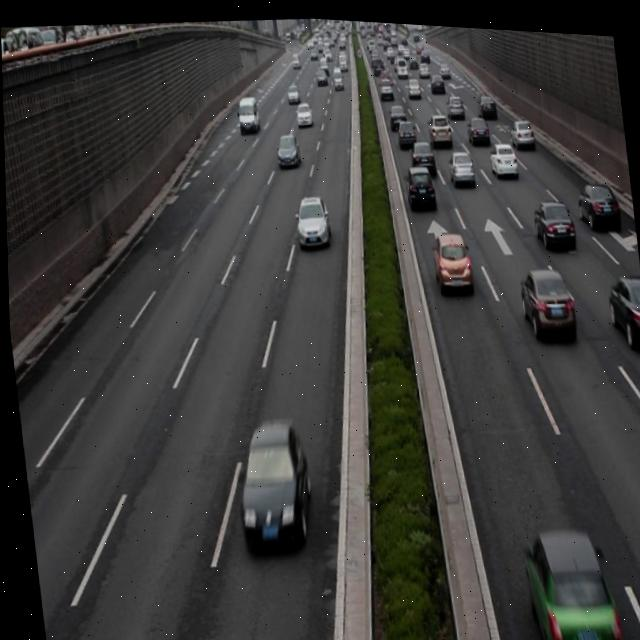car: (517, 515, 617, 640), (227, 415, 312, 552), (515, 260, 574, 340), (427, 224, 471, 289), (574, 172, 621, 230), (603, 266, 640, 338), (529, 191, 573, 245), (291, 190, 329, 245), (402, 159, 434, 208), (487, 134, 516, 178), (406, 132, 435, 175), (445, 144, 473, 183), (273, 125, 299, 166), (506, 108, 532, 145), (426, 108, 450, 141), (392, 114, 416, 147), (463, 106, 487, 139)
